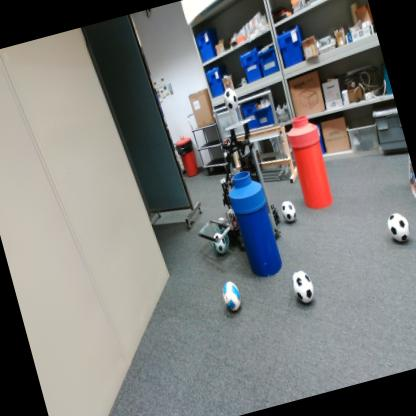ball: (289, 268, 316, 306), (386, 209, 414, 244), (219, 279, 244, 312), (278, 198, 298, 223), (221, 86, 240, 110), (210, 231, 228, 254)
